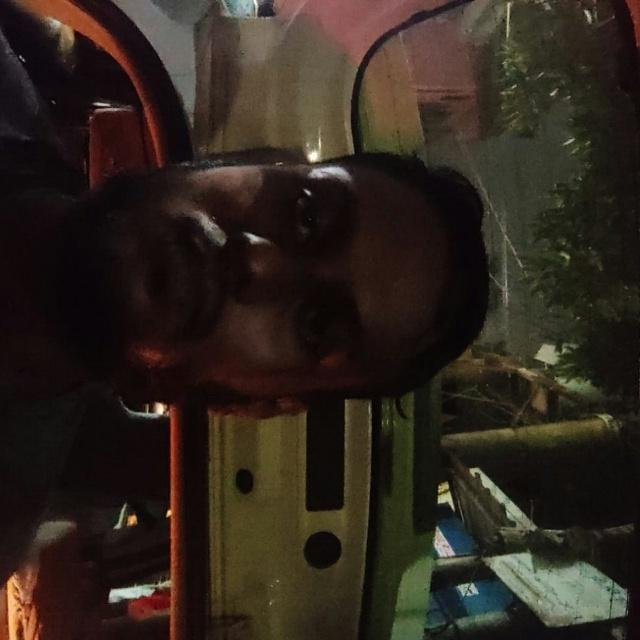Natural: (99, 112, 530, 431)
